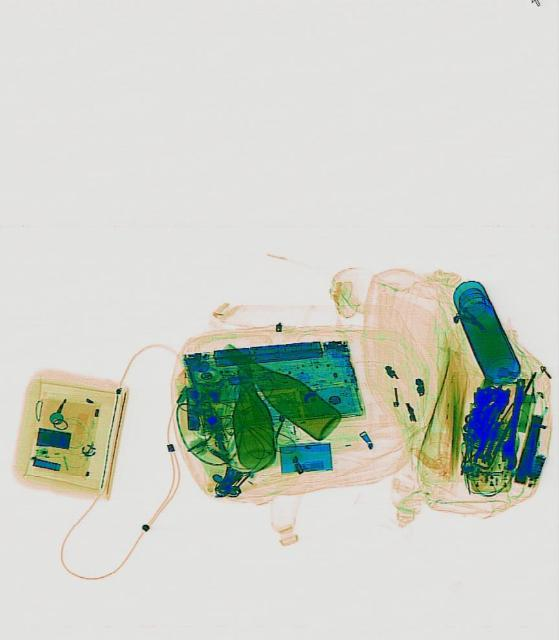Wrench: (497, 376, 529, 470), (472, 430, 490, 462)
